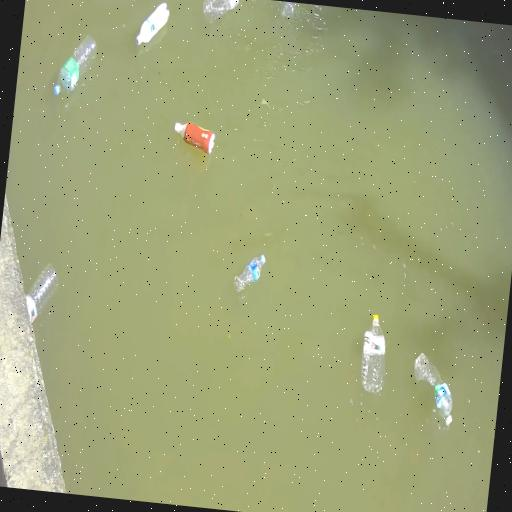plastic: (414, 354, 451, 425), (53, 36, 96, 95), (360, 314, 385, 395), (25, 264, 56, 323), (135, 3, 168, 45), (174, 123, 214, 154), (233, 255, 264, 291), (202, 0, 238, 23), (280, 1, 296, 19)
